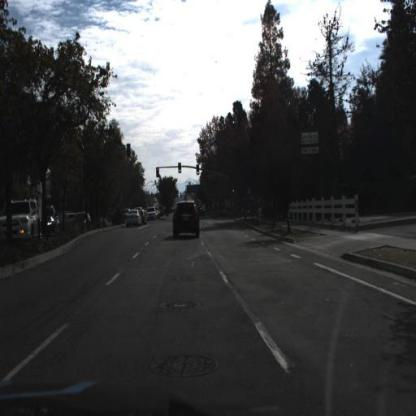car: (1, 198, 43, 247), (1, 198, 45, 241), (169, 197, 203, 242), (32, 199, 63, 235), (19, 218, 50, 241), (41, 204, 59, 240), (125, 208, 146, 233), (125, 208, 143, 231), (72, 211, 91, 231), (146, 208, 159, 224)
trafficLight-Green: (232, 182, 236, 196), (179, 162, 183, 174), (197, 164, 201, 176)
trafficLight-RedLeft: (157, 169, 161, 181)
